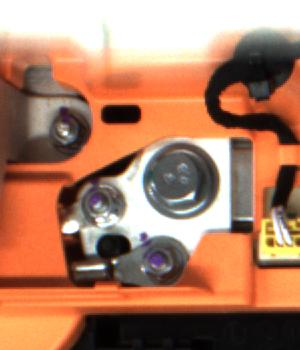nut_b: (135, 135, 224, 222)
